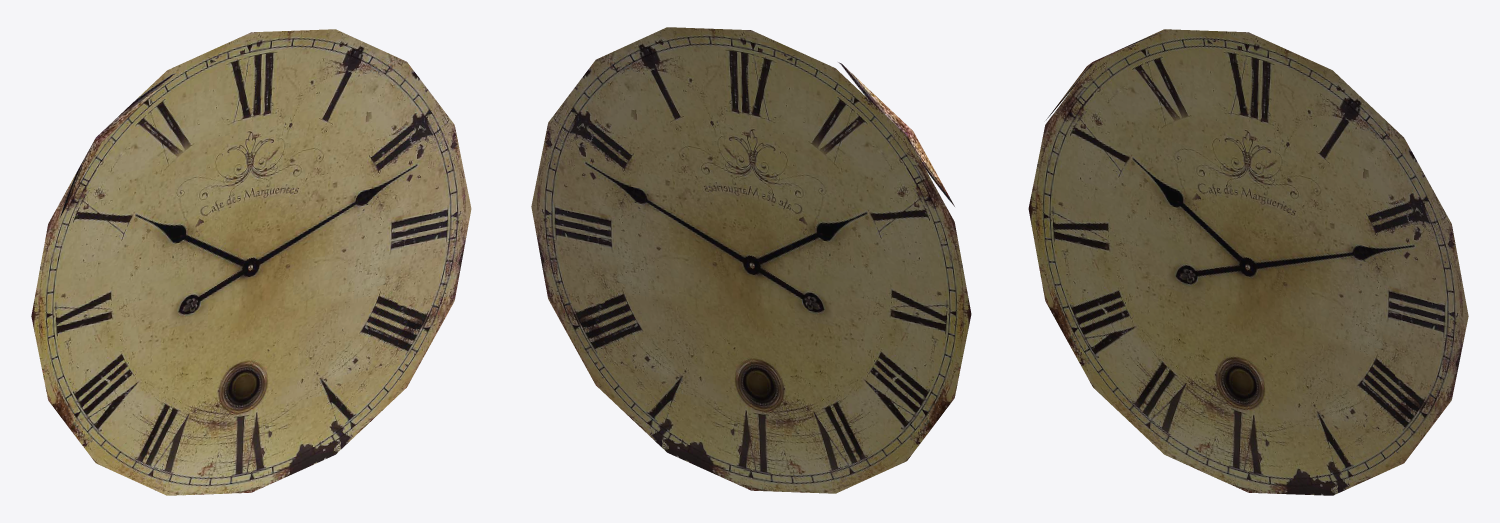
The model's file is clock.fbx.
3 views of the same model, side by side, from view 1: azimuth 30°, elevation 25°; view 2: azimuth 150°, elevation 25°; view 3: azimuth 330°, elevation 25° (orthographic).
Visible parts, largest first — view 1: clock; view 2: clock; view 3: clock.
Boxes of the visible parts, x1,y1,x2,y2 form: clock: [31, 29, 471, 495]; clock: [531, 27, 971, 493]; clock: [1028, 29, 1468, 495].
Size of the model in its own units: 78 by 78 by 4.51.
